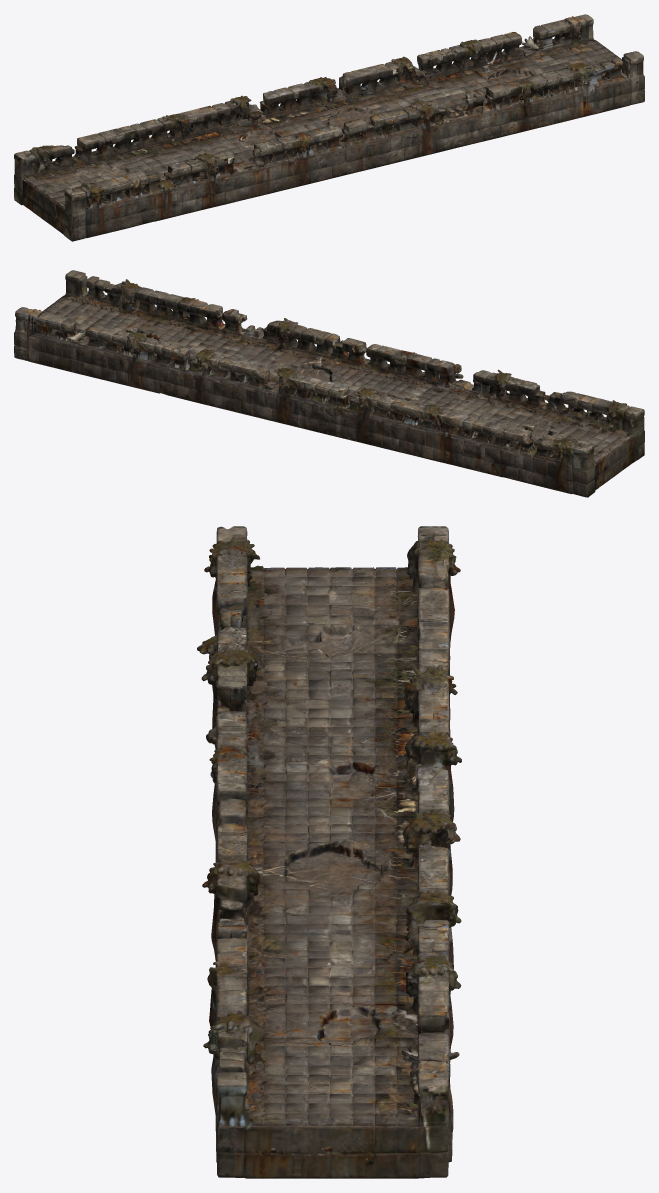
The model's file is Arena_walkway.glb.
The picture shows the model from 3 angles, top to bottom: view 1: azimuth 30°, elevation 25°; view 2: azimuth 150°, elevation 25°; view 3: azimuth 270°, elevation 25°; orthographic projection. The views are drawn at different scales.
Parts seen in each view (by area): view 1: YVO3D.obj; view 2: YVO3D.obj; view 3: YVO3D.obj.
Part boxes in pixels (bbox=[...]): YVO3D.obj: bbox=[14, 14, 644, 241]; YVO3D.obj: bbox=[14, 270, 644, 497]; YVO3D.obj: bbox=[197, 526, 461, 1178].
Bounding box in the file's own units: 0.9793 × 0.0827 × 0.1957.
1 material, 1 textured.
